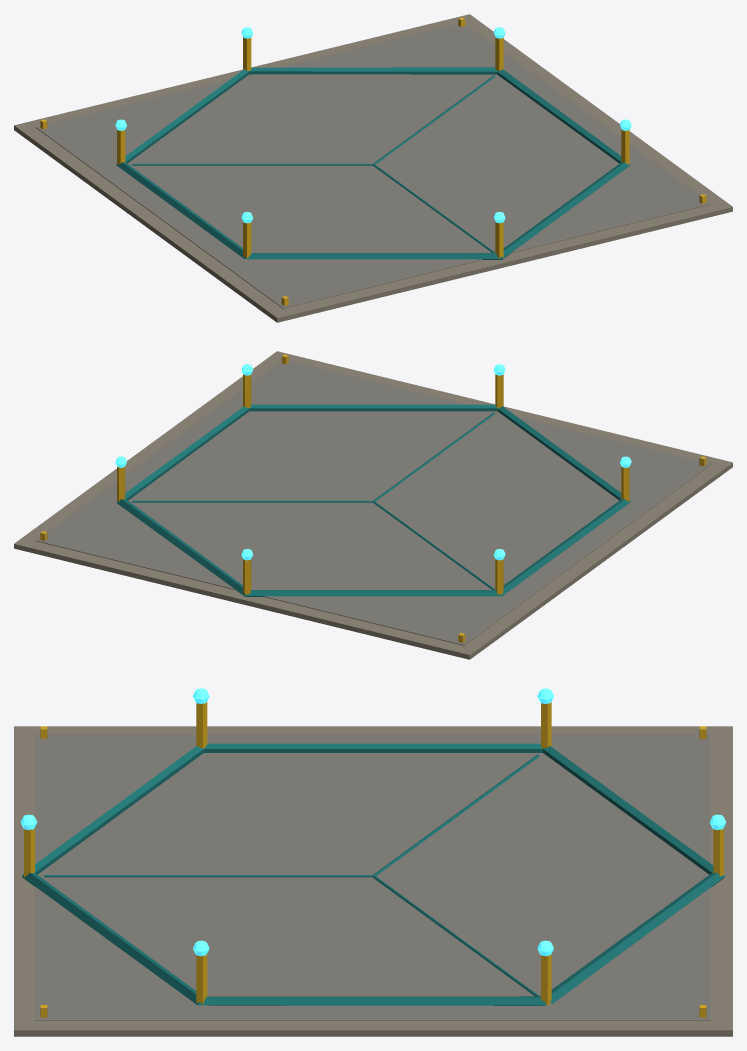
Rendered from prp_build_plot.glb.
3 renders of one model, top to bottom at view 1: azimuth 30°, elevation 25°; view 2: azimuth 150°, elevation 25°; view 3: azimuth 270°, elevation 25°, orthographic. The views are drawn at different scales.
Visible parts, largest first — view 1: prp_build_plot; view 2: prp_build_plot; view 3: prp_build_plot.
Part boxes in pixels (<box>): prp_build_plot: <box>14,14,732,322</box>; prp_build_plot: <box>14,351,732,659</box>; prp_build_plot: <box>14,688,732,1036</box>.
Size of the model in its own units: 24 by 2.58 by 24.
